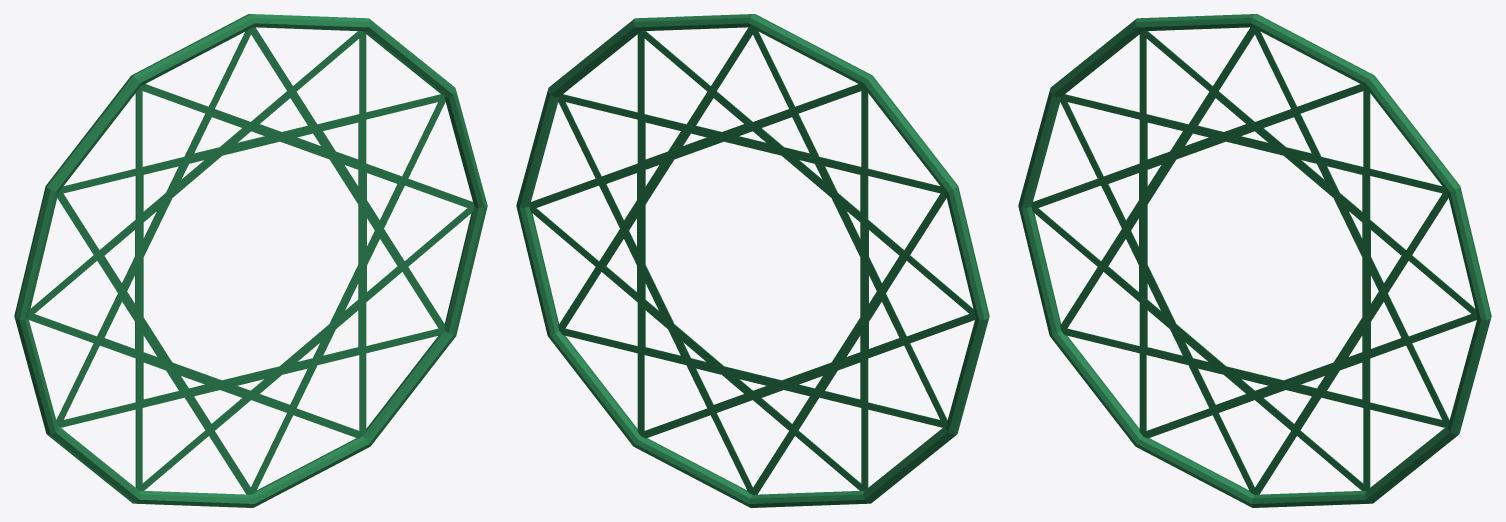
File: Prop_Druid_Home_Dream_Catcher_Woven_01.FBX
3 views of the same model, side by side, from view 1: azimuth 30°, elevation 25°; view 2: azimuth 150°, elevation 25°; view 3: azimuth 330°, elevation 25° (orthographic).
Visible parts, largest first — view 1: Prop_Druid_Home_Dream_Catcher_Woven_01; view 2: Prop_Druid_Home_Dream_Catcher_Woven_01; view 3: Prop_Druid_Home_Dream_Catcher_Woven_01.
Part boxes in pixels (x1=…): Prop_Druid_Home_Dream_Catcher_Woven_01: x1=14, y1=14, x2=487, y2=507; Prop_Druid_Home_Dream_Catcher_Woven_01: x1=516, y1=14, x2=989, y2=507; Prop_Druid_Home_Dream_Catcher_Woven_01: x1=1018, y1=14, x2=1491, y2=507.
Bounding box in the file's own units: 2440 × 2440 × 65.49.
